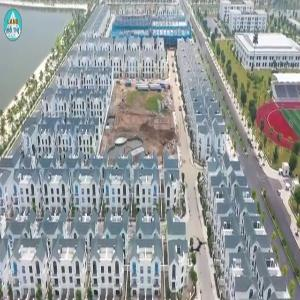drone: (180, 229, 219, 268)
